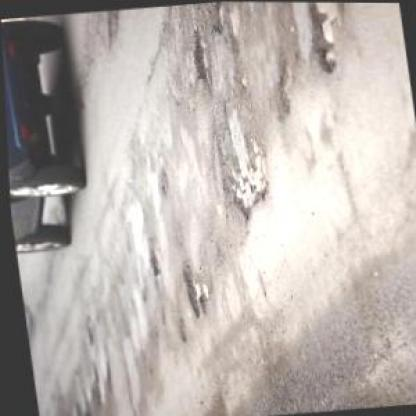pothole: (216, 133, 276, 221), (174, 256, 214, 318), (186, 31, 211, 83), (143, 244, 158, 276)
